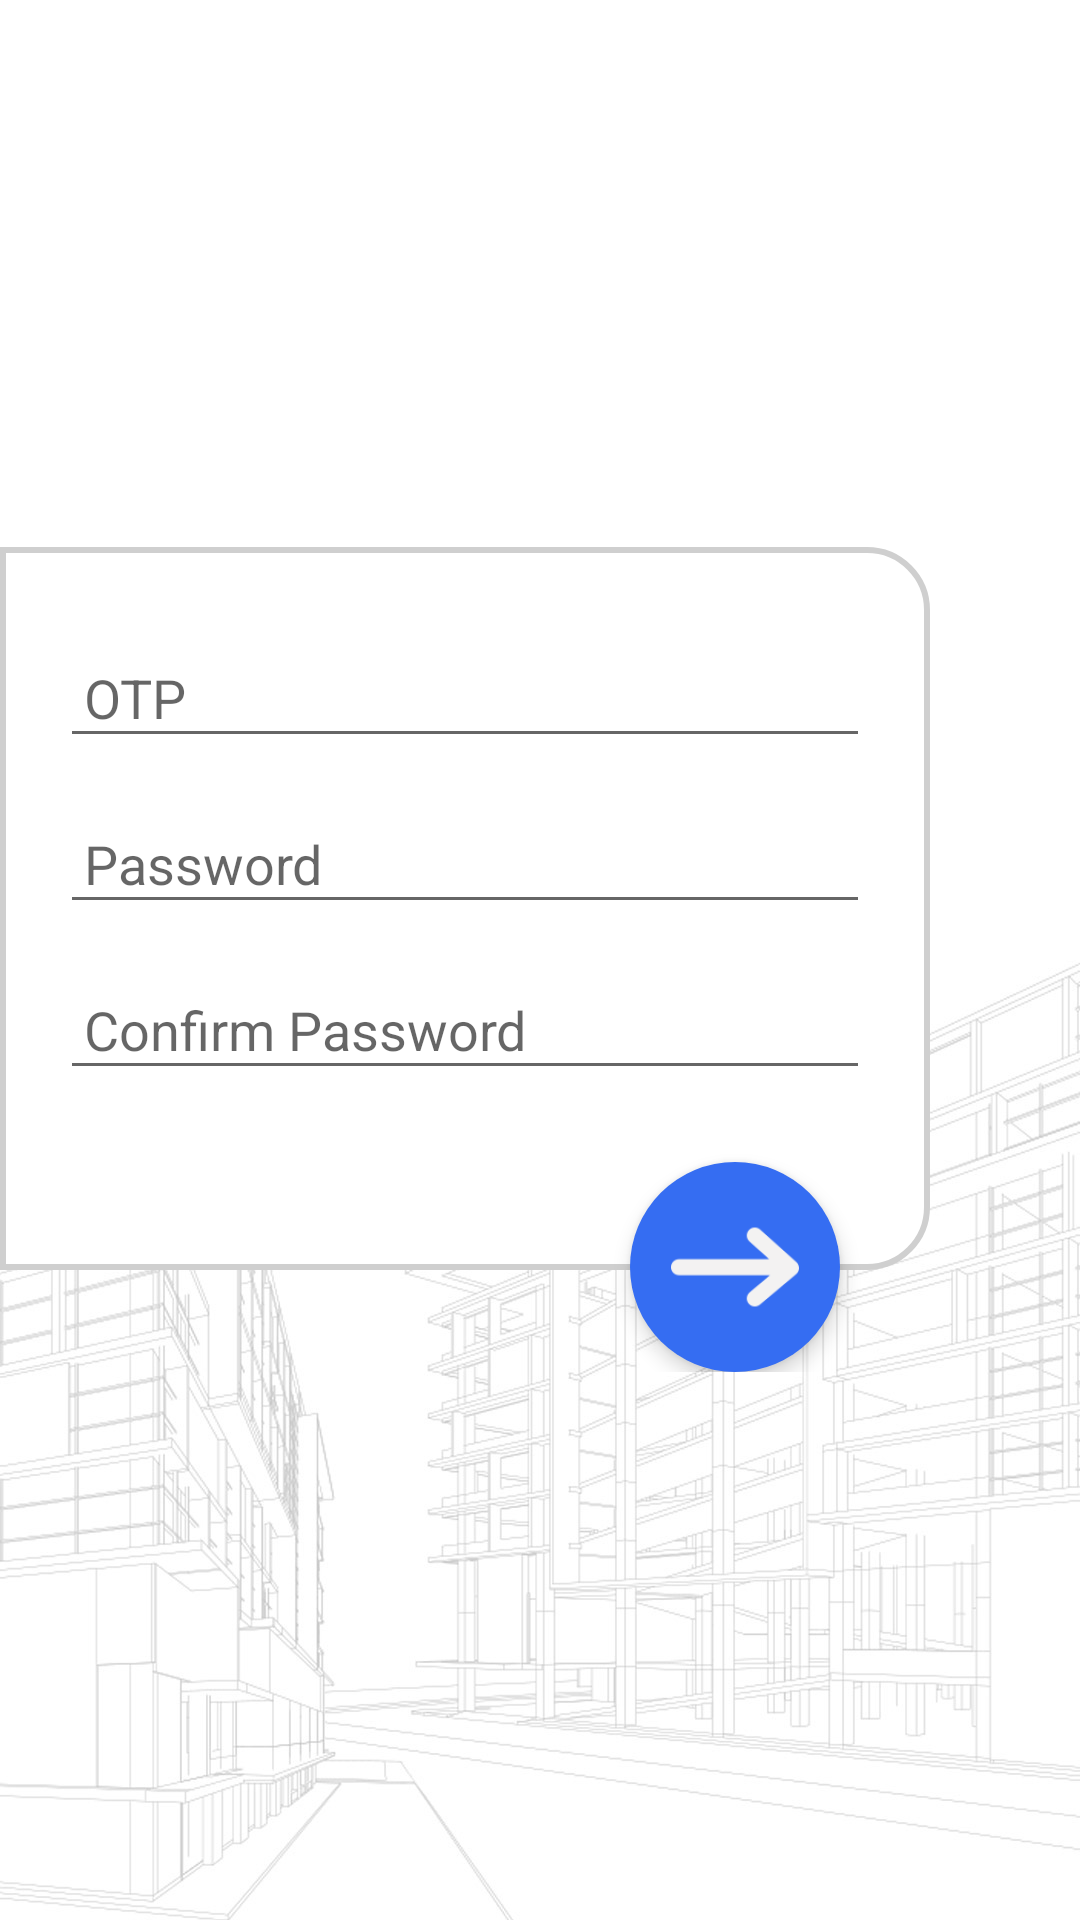

Icon click points for this 1080px×1920px phone screenshot, format (x=x, y=y):
right arrow: (x=735, y=1267)
